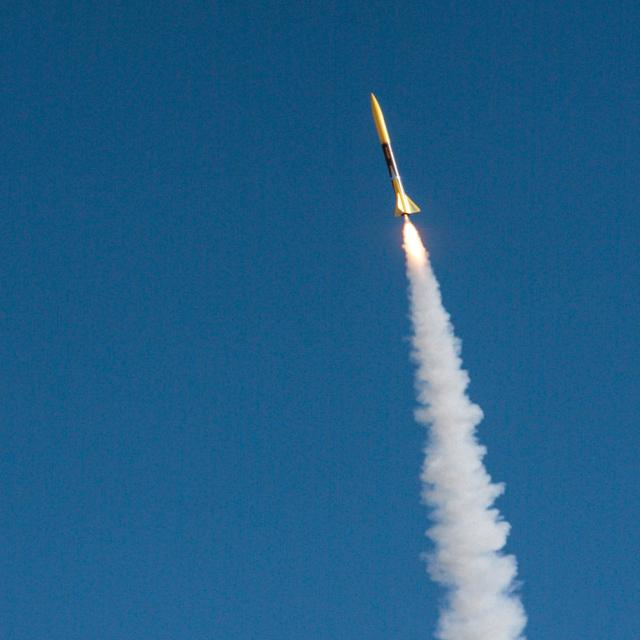Rocket: (369, 92, 421, 218)
